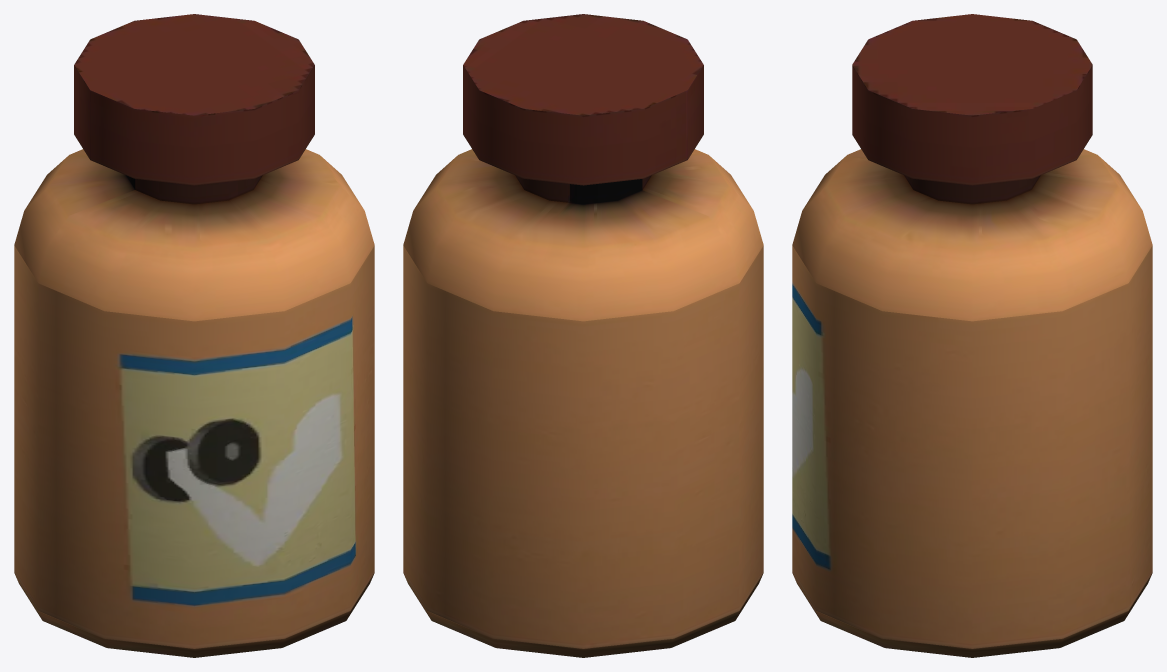
3 renders of one model, left to right at view 1: azimuth 30°, elevation 25°; view 2: azimuth 150°, elevation 25°; view 3: azimuth 270°, elevation 25°, orthographic.
Visible parts, largest first — view 1: body0_model0_lod0_mesh0; view 2: body0_model0_lod0_mesh0; view 3: body0_model0_lod0_mesh0.
Boxes of the visible parts, x1,y1,x2,y2 form: body0_model0_lod0_mesh0: [14, 14, 374, 657]; body0_model0_lod0_mesh0: [403, 14, 763, 657]; body0_model0_lod0_mesh0: [792, 14, 1152, 657].
Bounding box in the file's own units: 11.04 × 17.71 × 11.04.
1 material, 1 textured.
